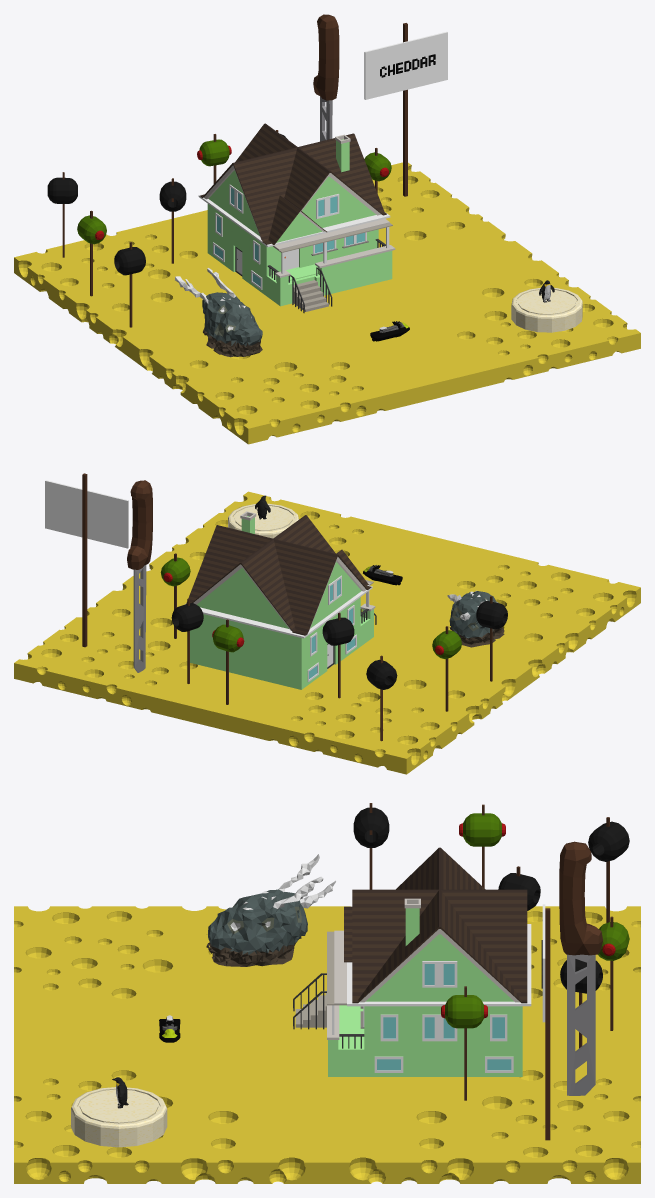
3 views of the same model, one above another, from view 1: azimuth 30°, elevation 25°; view 2: azimuth 150°, elevation 25°; view 3: azimuth 270°, elevation 25° (orthographic). The views are drawn at different scales.
Parts seen in each view (by area): view 1: Cube.022, Cube.274, Cube.023, OBJRANDOM_METEORITE, Cylinder.016, Cube.024, Sphere.017, Sphere.016, Sphere.020, Sphere.018, Sphere.022, Sphere.019; view 2: Cube.022, Cube.274, Cube.023, Cube.024, OBJRANDOM_METEORITE, Cylinder.016, Sphere.017, Sphere.020, Sphere.021, Sphere.016, Sphere.018, Sphere.022 (+2 smaller); view 3: Cube.022, Cube.274, OBJRANDOM_METEORITE, Cube.024, Cylinder.016, Cube.023, Sphere.019, Sphere.016, Sphere.018, Sphere.017, Sphere.022, Sphere.020 (+1 smaller).
Boxes of the visible parts, bbox=[...] form: Cube.022: bbox=[14, 162, 640, 444]; Cube.274: bbox=[198, 123, 395, 313]; Cube.023: bbox=[364, 23, 447, 196]; OBJRANDOM_METEORITE: bbox=[175, 268, 262, 357]; Cylinder.016: bbox=[511, 287, 582, 332]; Cube.024: bbox=[313, 14, 339, 141]; Sphere.017: bbox=[114, 242, 145, 327]; Sphere.016: bbox=[47, 172, 77, 257]; Sphere.020: bbox=[159, 178, 186, 263]; Sphere.018: bbox=[77, 210, 106, 296]; Sphere.022: bbox=[197, 134, 231, 183]; Sphere.019: bbox=[364, 148, 391, 192]; Cube.022: bbox=[14, 491, 640, 774]; Cube.274: bbox=[185, 511, 376, 689]; Cube.023: bbox=[45, 473, 128, 647]; Cube.024: bbox=[127, 480, 152, 672]; OBJRANDOM_METEORITE: bbox=[447, 590, 504, 647]; Cylinder.016: bbox=[228, 503, 298, 538]; Sphere.017: bbox=[476, 596, 507, 681]; Sphere.020: bbox=[322, 612, 354, 698]; Sphere.021: bbox=[171, 598, 203, 683]; Sphere.016: bbox=[366, 655, 397, 741]; Sphere.018: bbox=[432, 626, 461, 711]; Sphere.022: bbox=[212, 619, 244, 704]; Cube.022: bbox=[14, 906, 640, 1183]; Cube.274: bbox=[293, 847, 531, 1076]; OBJRANDOM_METEORITE: bbox=[206, 854, 335, 966]; Cube.024: bbox=[559, 841, 602, 1095]; Cylinder.016: bbox=[71, 1087, 167, 1147]; Cube.023: bbox=[541, 904, 550, 1140]; Sphere.019: bbox=[441, 986, 487, 1100]; Sphere.016: bbox=[588, 817, 629, 922]; Sphere.018: bbox=[459, 804, 505, 887]; Sphere.017: bbox=[353, 803, 389, 889]; Sphere.022: bbox=[598, 916, 629, 1030]; Sphere.020: bbox=[498, 866, 540, 910].
Bounding box in the file's own units: 3917 × 2007 × 4000.
Materials: 37 (3 with a texture image).
